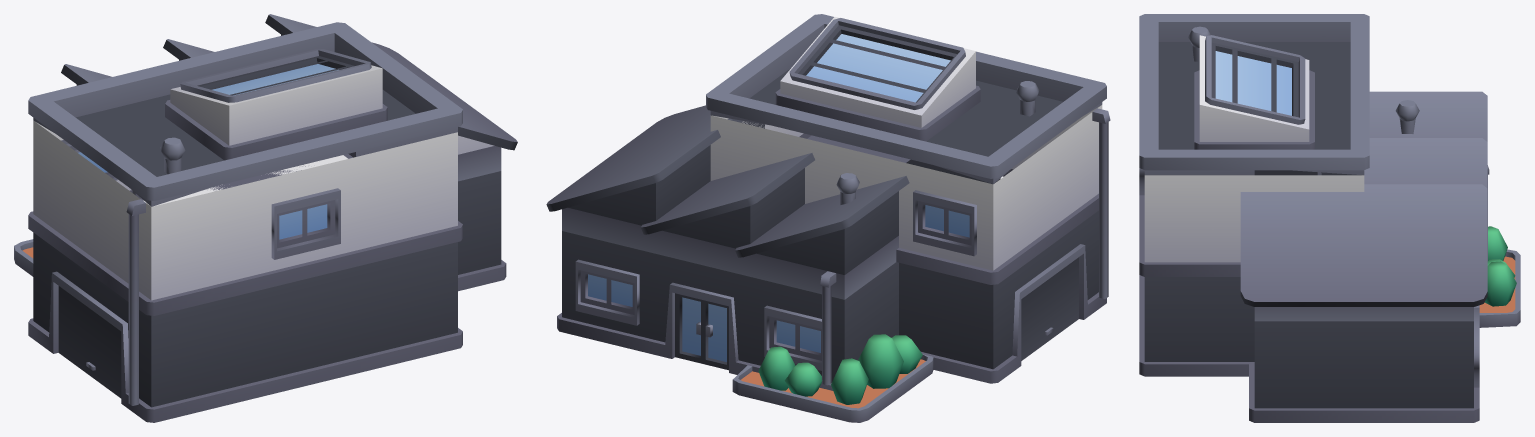
Rendered from building-t.lod.glb.
3 renders of one model, left to right at view 1: azimuth 30°, elevation 25°; view 2: azimuth 150°, elevation 25°; view 3: azimuth 270°, elevation 25°, orthographic. The views are drawn at different scales.
Parts seen in each view (by area): view 1: building-t; view 2: building-t; view 3: building-t.
Part boxes in pixels (left/top/right/bottom): building-t: left=14, top=14, right=517, bottom=422; building-t: left=546, top=14, right=1110, bottom=422; building-t: left=1139, top=14, right=1520, bottom=422.
Bounding box in the file's own units: 1.71 × 1.01 × 1.39.
1 material, 1 textured.
